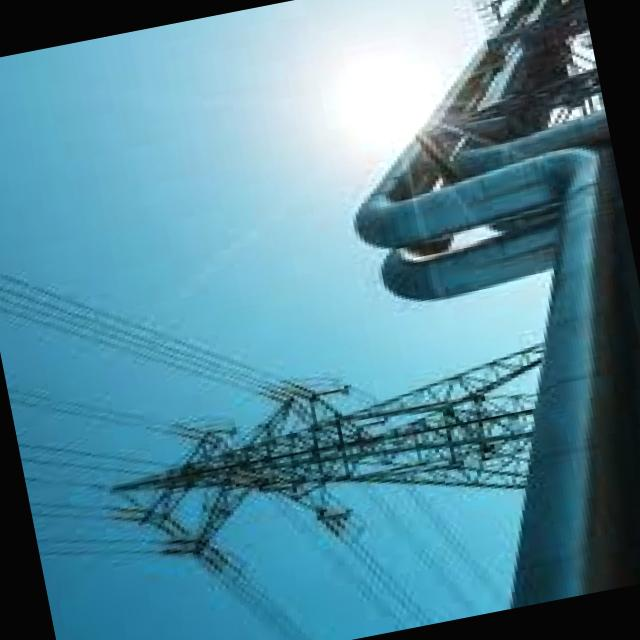gas: (513, 146, 640, 608), (357, 157, 571, 248), (385, 223, 557, 299)
